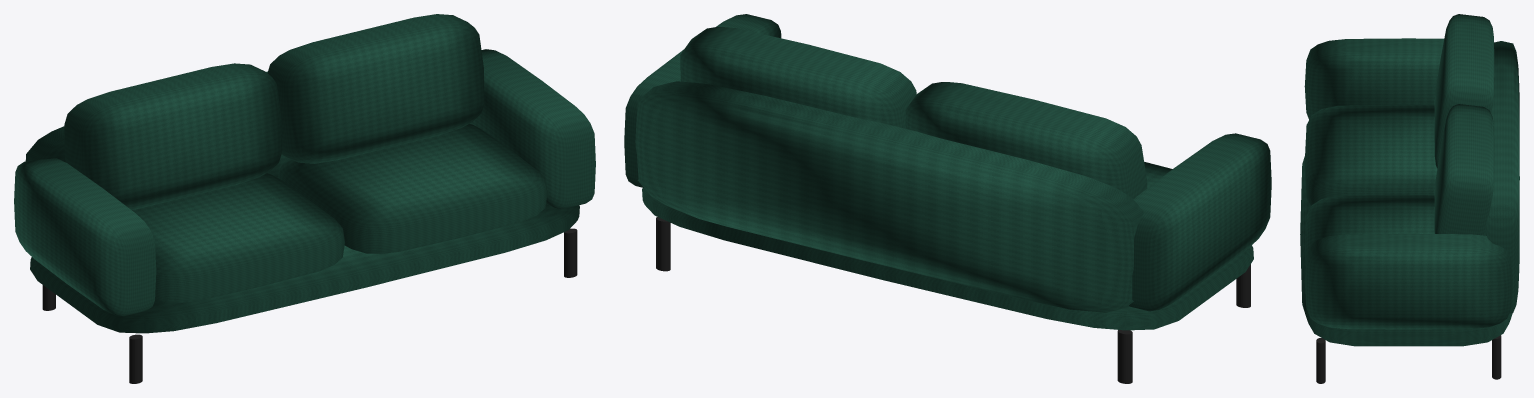
3 renders of one model, left to right at view 1: azimuth 30°, elevation 25°; view 2: azimuth 150°, elevation 25°; view 3: azimuth 270°, elevation 25°, orthographic. The views are drawn at different scales.
Visible parts, largest first — view 1: 8 right_back_cushion, 7 left_back_cushion, 6 right_seat_cushion, 5 left_seat_cushion, 3 left_armrest, 1 base_frame, 4 right_armrest, 2 backrest_frame, 9 front_left_leg, 10 front_right_leg; view 2: 2 backrest_frame, 3 left_armrest, 7 left_back_cushion, 8 right_back_cushion, 1 base_frame, 4 right_armrest, 11 back_left_leg, 12 back_right_leg; view 3: 4 right_armrest, 5 left_seat_cushion, 3 left_armrest, 8 right_back_cushion, 2 backrest_frame, 7 left_back_cushion, 6 right_seat_cushion, 1 base_frame, 10 front_right_leg, 12 back_right_leg.
Boxes of the visible parts, left/top/right/bottom form: 8 right_back_cushion: left=267, top=14, right=484, bottom=163; 7 left_back_cushion: left=64, top=63, right=282, bottom=209; 6 right_seat_cushion: left=278, top=124, right=547, bottom=253; 5 left_seat_cushion: left=132, top=173, right=344, bottom=302; 3 left_armrest: left=14, top=158, right=156, bottom=316; 1 base_frame: left=30, top=204, right=579, bottom=333; 4 right_armrest: left=470, top=49, right=595, bottom=208; 2 backrest_frame: left=25, top=71, right=288, bottom=177; 9 front_left_leg: left=129, top=334, right=142, bottom=383; 10 front_right_leg: left=564, top=228, right=577, bottom=277; 2 backrest_frame: left=635, top=81, right=1143, bottom=312; 3 left_armrest: left=1129, top=133, right=1271, bottom=311; 7 left_back_cushion: left=905, top=82, right=1147, bottom=198; 8 right_back_cushion: left=680, top=27, right=916, bottom=128; 1 base_frame: left=642, top=188, right=1253, bottom=330; 4 right_armrest: left=624, top=14, right=781, bottom=187; 11 back_left_leg: left=1117, top=330, right=1132, bottom=383; 12 back_right_leg: left=656, top=217, right=670, bottom=271; 4 right_armrest: left=1304, top=233, right=1512, bottom=329; 5 left_seat_cushion: left=1304, top=104, right=1437, bottom=205; 3 left_armrest: left=1304, top=38, right=1444, bottom=119; 8 right_back_cushion: left=1434, top=104, right=1494, bottom=235; 2 backrest_frame: left=1485, top=41, right=1519, bottom=313; 7 left_back_cushion: left=1434, top=14, right=1494, bottom=168; 6 right_seat_cushion: left=1304, top=194, right=1434, bottom=265; 1 base_frame: left=1300, top=156, right=1512, bottom=346; 10 front_right_leg: left=1316, top=338, right=1325, bottom=383; 12 back_right_leg: left=1492, top=335, right=1501, bottom=379.
Bounding box in the file's own units: 2.4 × 1 × 1.04.
Materials: 2 (1 with a texture image).
